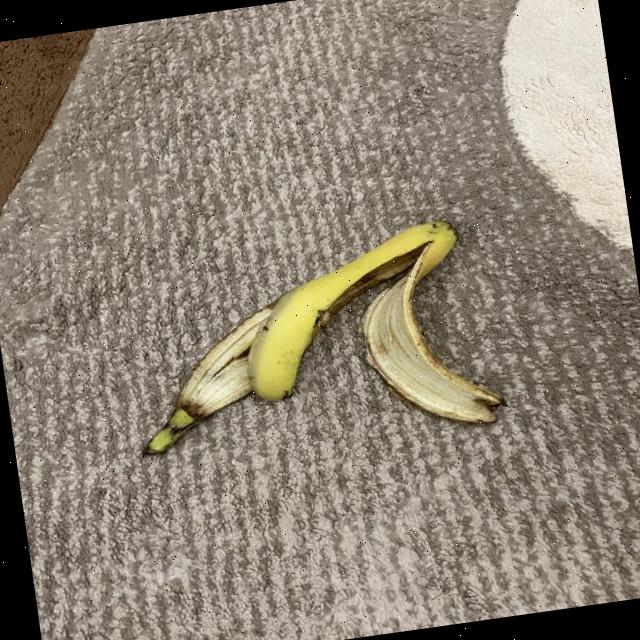banana-peel: (116, 212, 505, 467), (228, 216, 477, 407), (349, 237, 509, 440), (124, 302, 292, 457)
